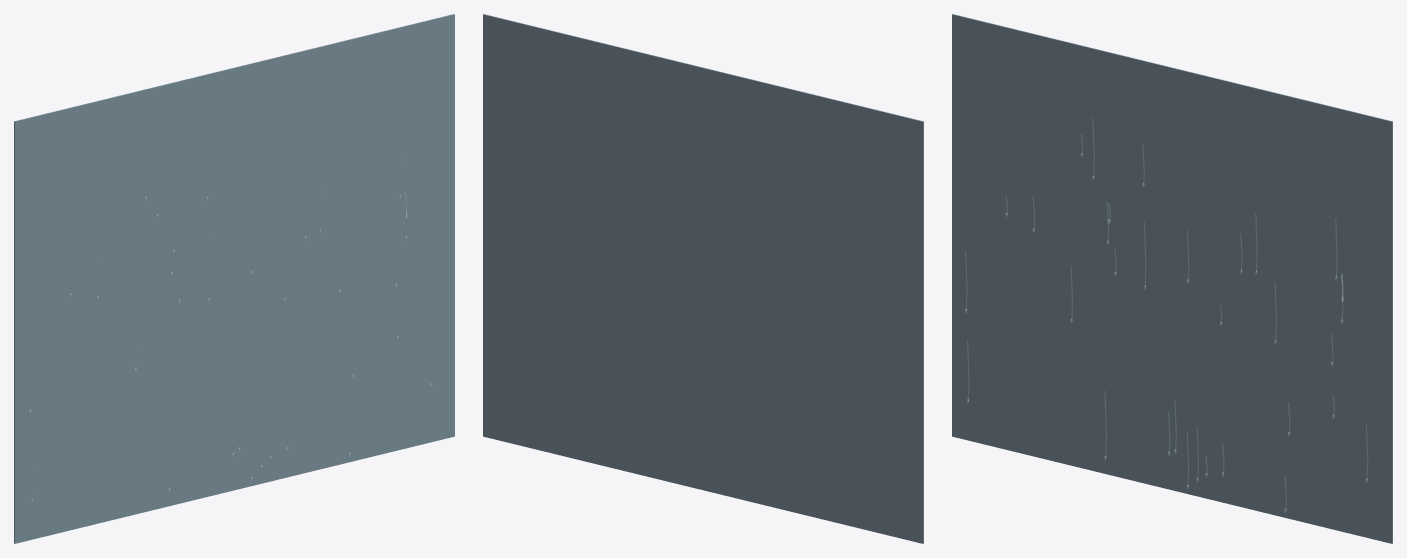
File: RainStreakPaneWide.glb
3 renders of one model, left to right at view 1: azimuth 30°, elevation 25°; view 2: azimuth 150°, elevation 25°; view 3: azimuth 330°, elevation 25°, orthographic.
Parts seen in each view (by area): view 1: ClearRainSheet.001; view 2: ClearRainSheet.001; view 3: ClearRainSheet.001.
Boxes of the visible parts, x1,y1,x2,y2 form: ClearRainSheet.001: [14, 14, 454, 543]; ClearRainSheet.001: [483, 14, 923, 543]; ClearRainSheet.001: [952, 14, 1392, 543].
Size of the model in its own units: 4.8 by 4.4 by 0.038.
